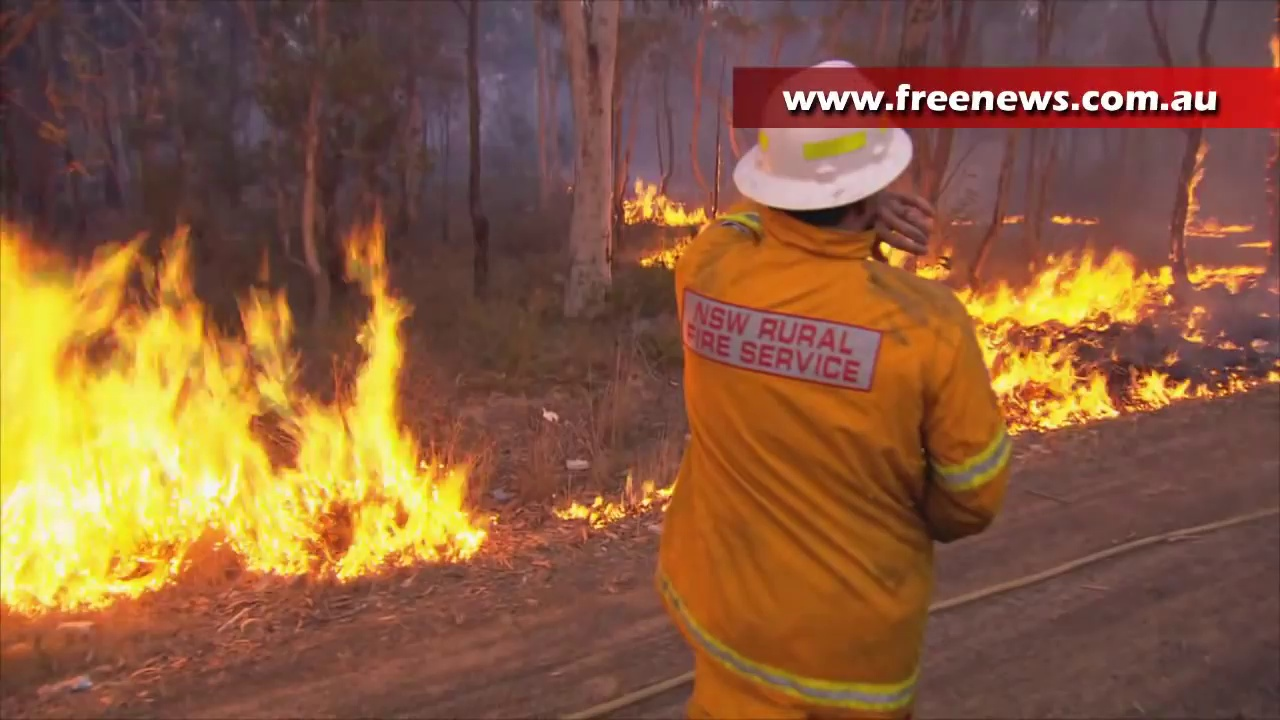fire: (2, 234, 484, 604), (970, 251, 1165, 425), (622, 181, 707, 266), (564, 481, 671, 522), (1190, 260, 1264, 290)
